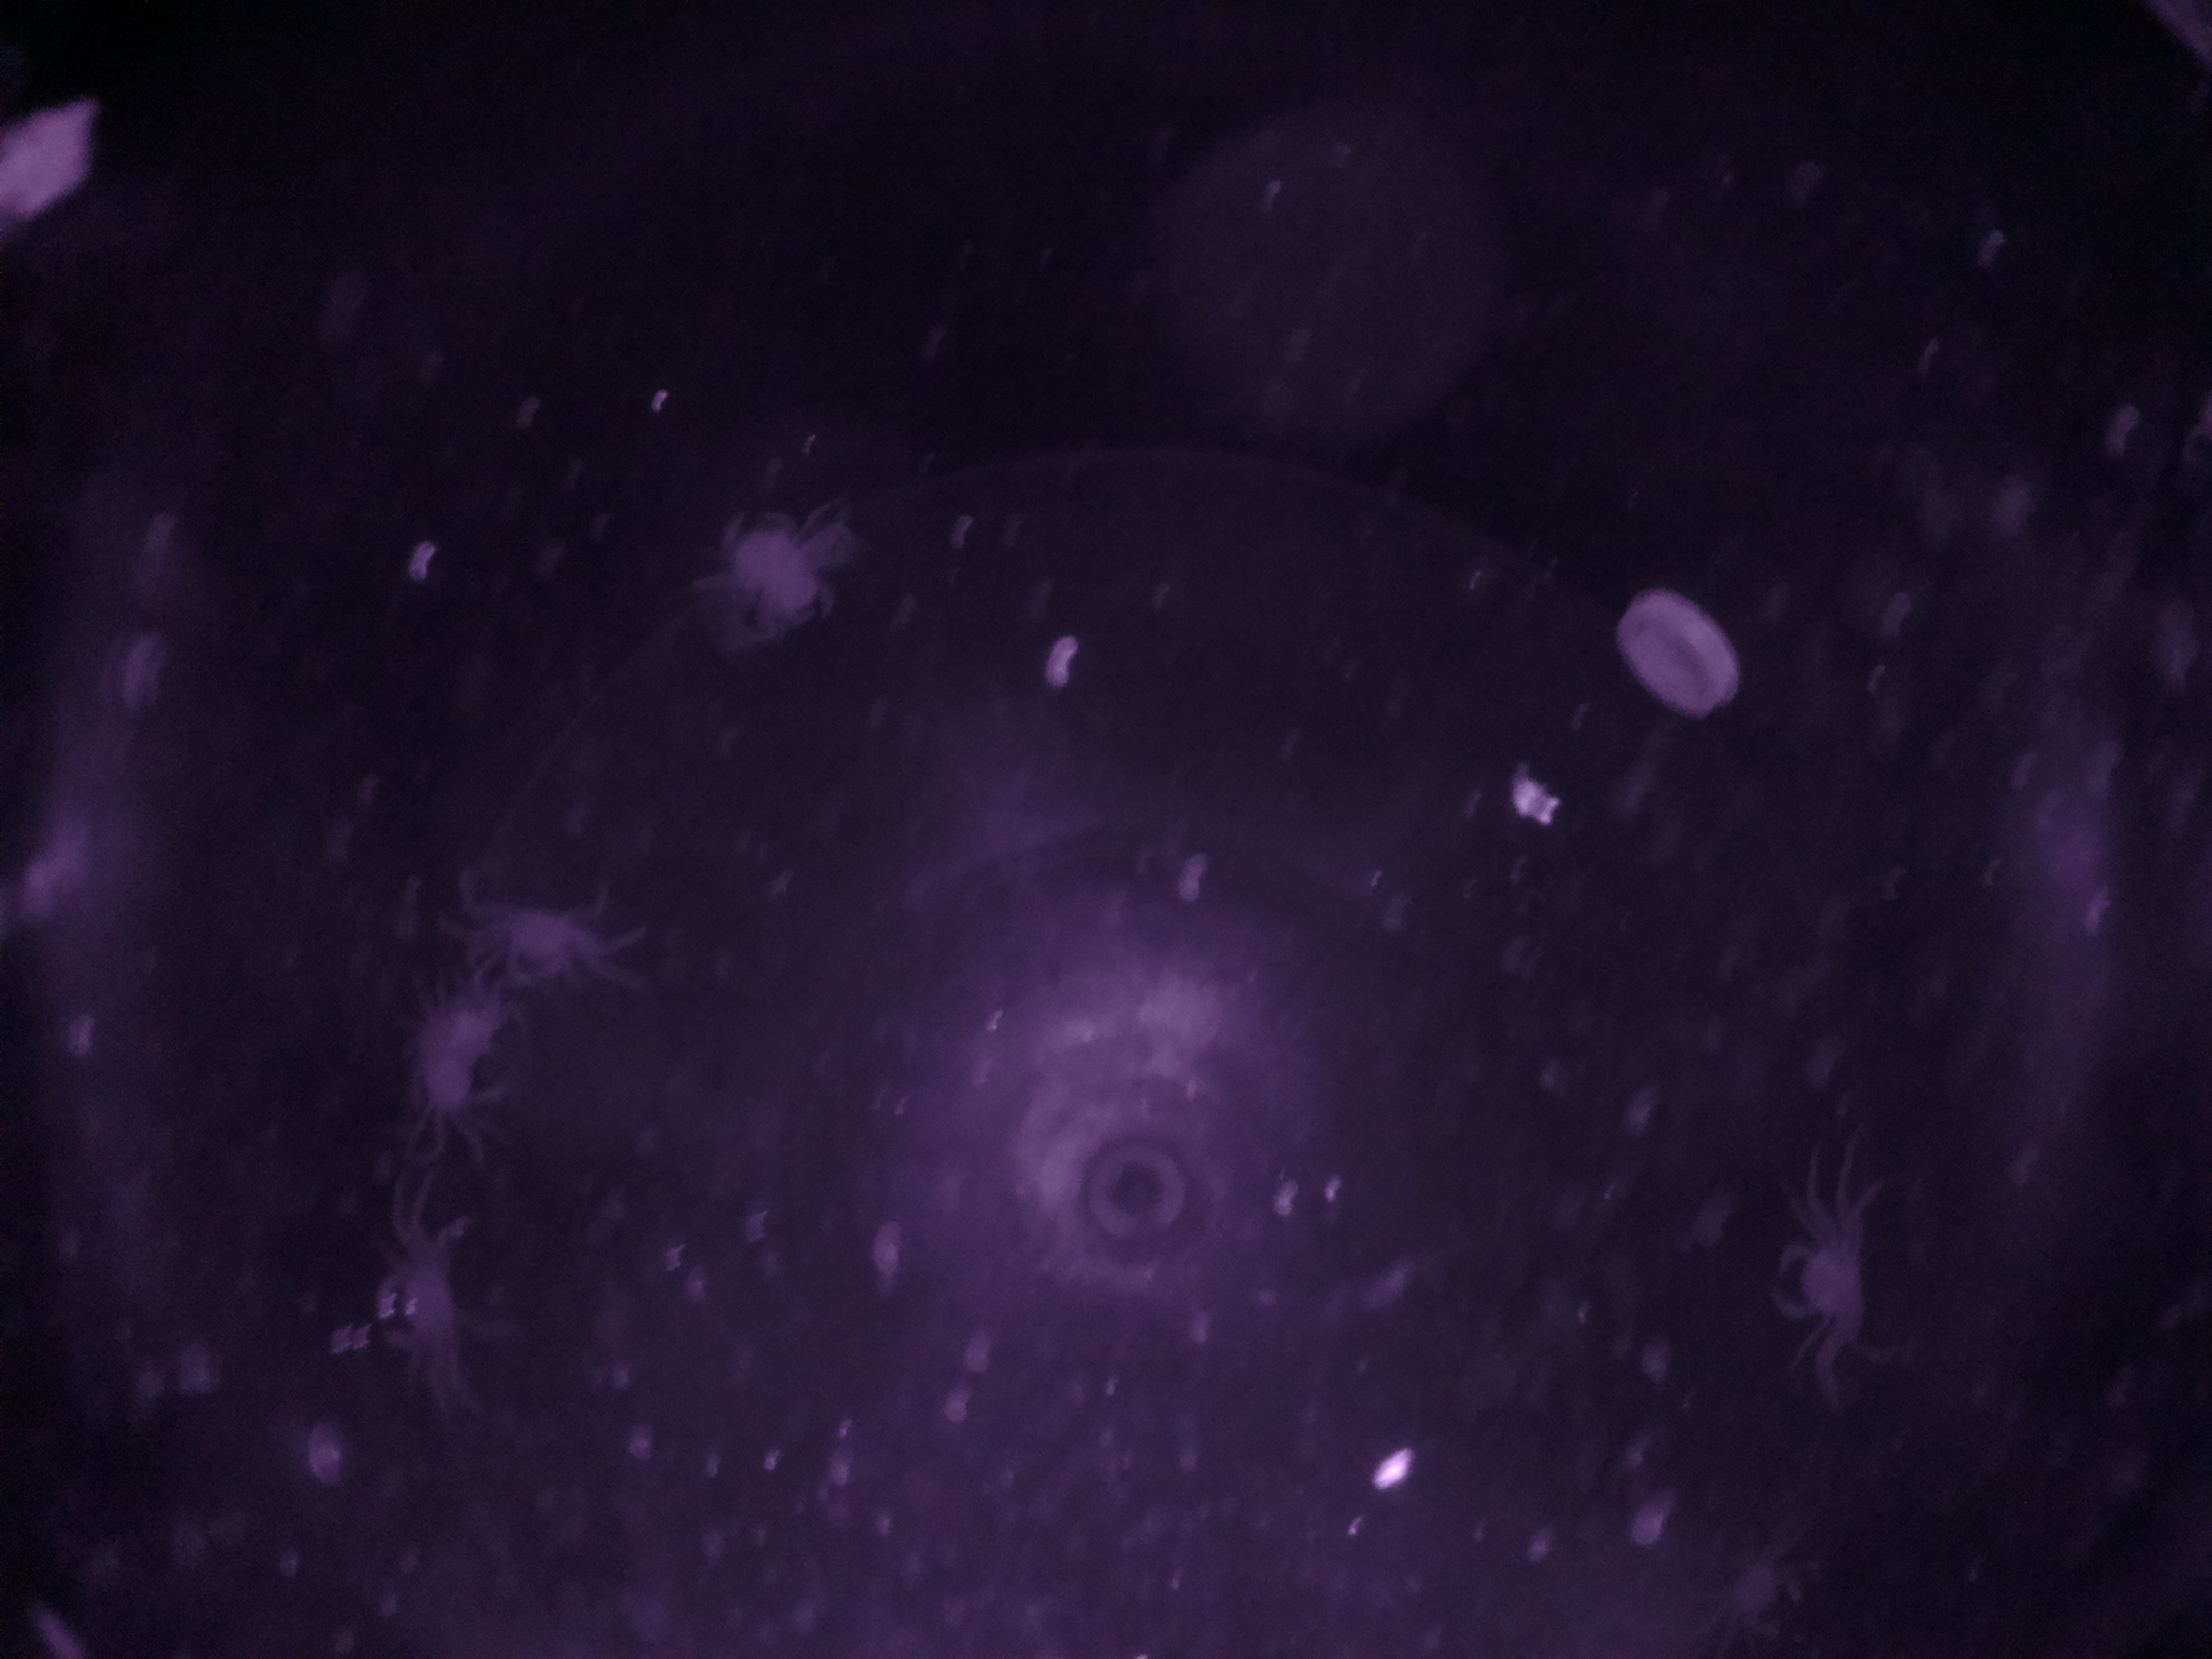Crab: (1745, 1206, 1893, 1349)
